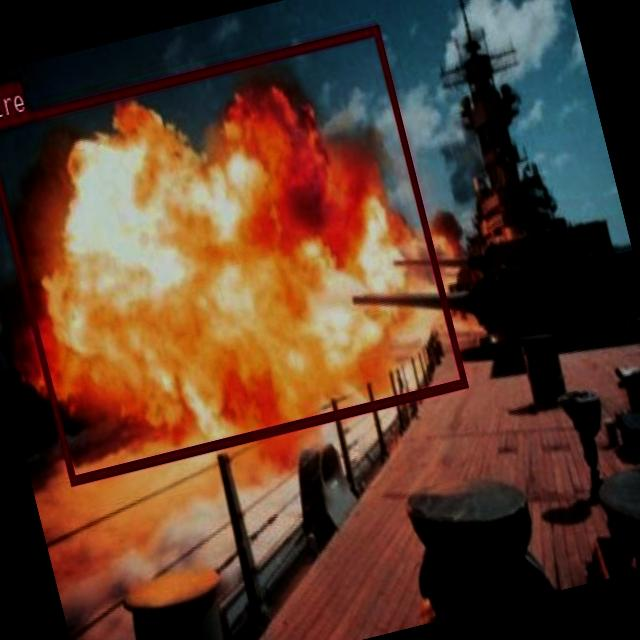fire: (0, 22, 465, 483)
